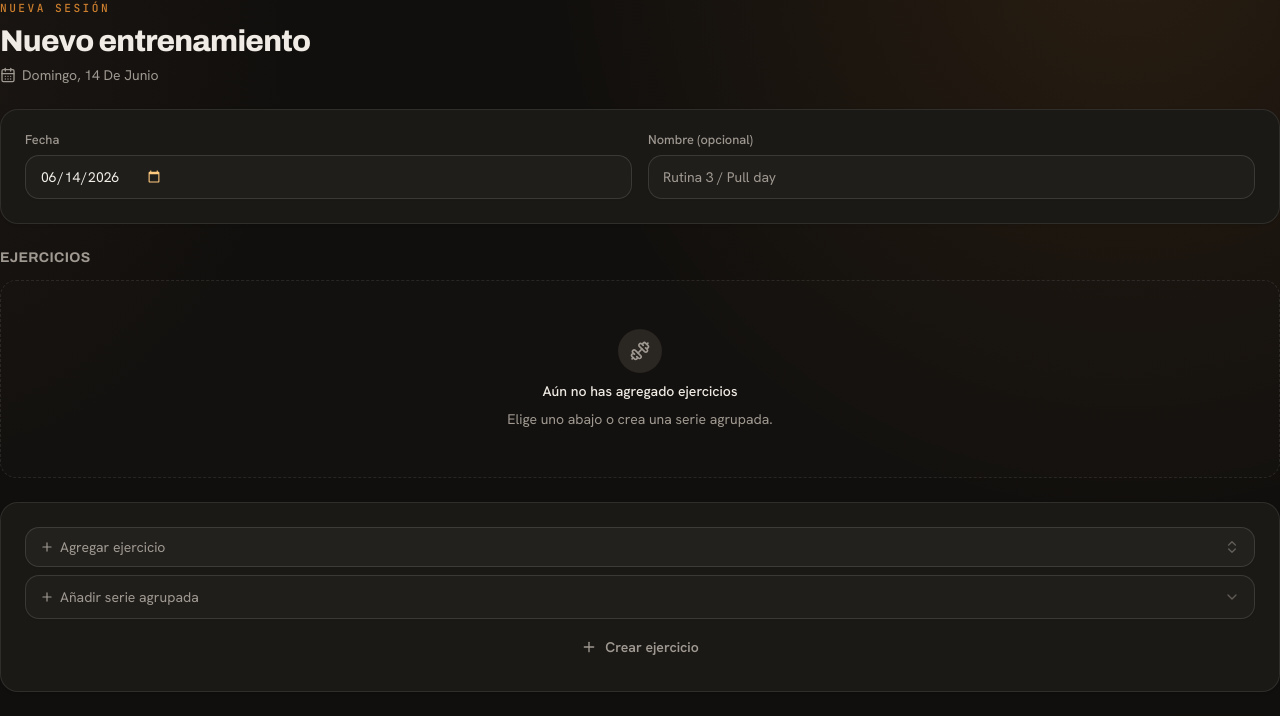
Test: WorkoutForm — inline create exercise › appends the newly created exercise to the workout
Click the button "Crear ejercicio" at (640, 647), box [25,627,1255,667]
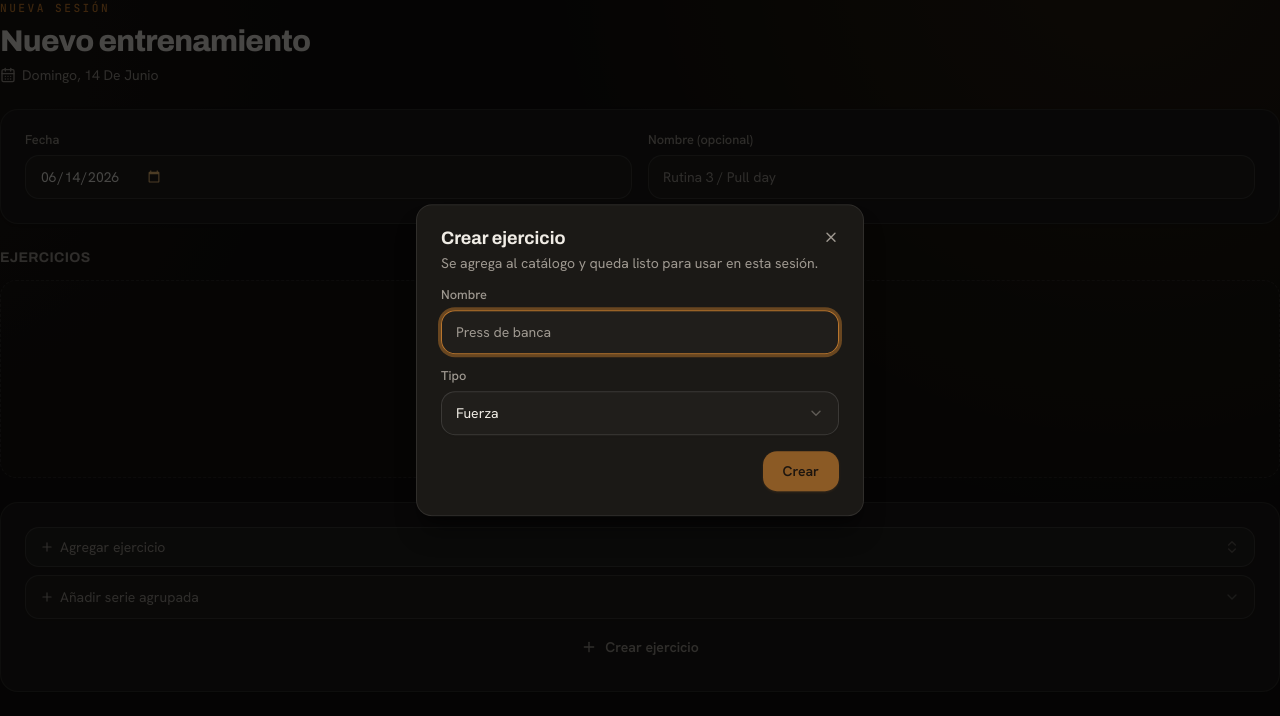
Type "Sentadilla" into the field labelled "Nombre" at (640, 332), box [441,310,839,354]
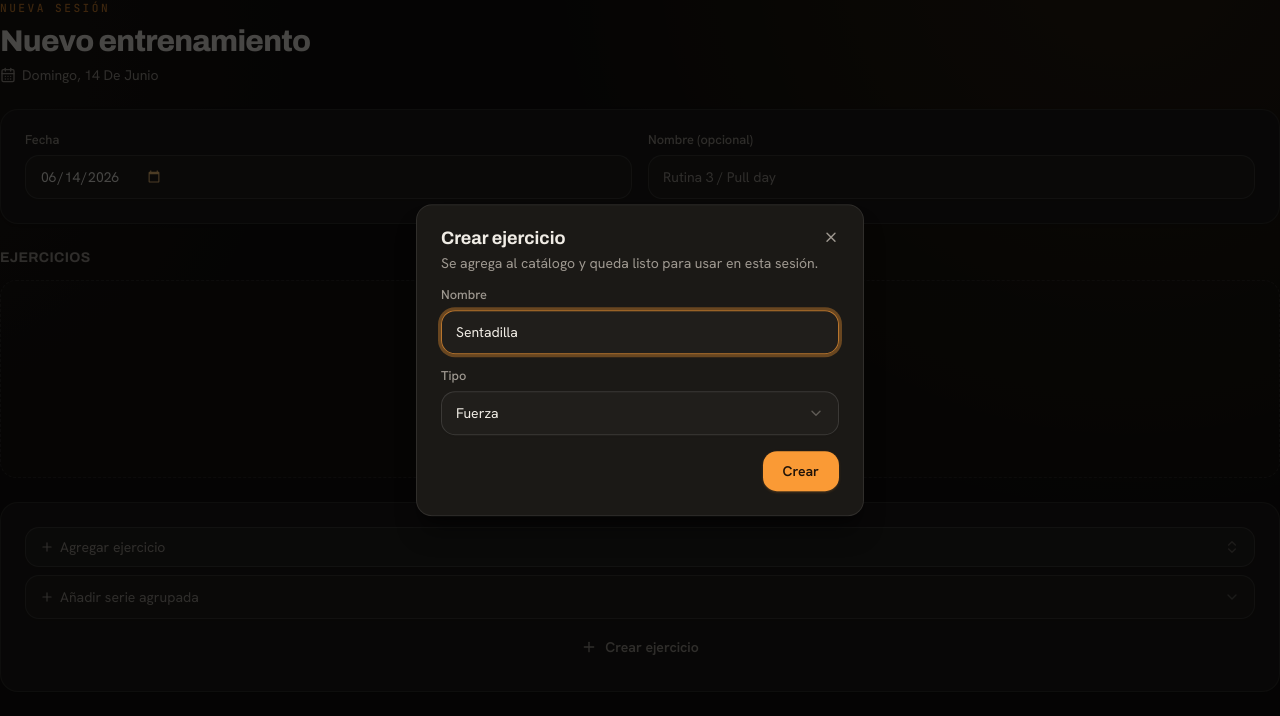
Click the button "Crear" at (801, 471), box [762,451,839,491]
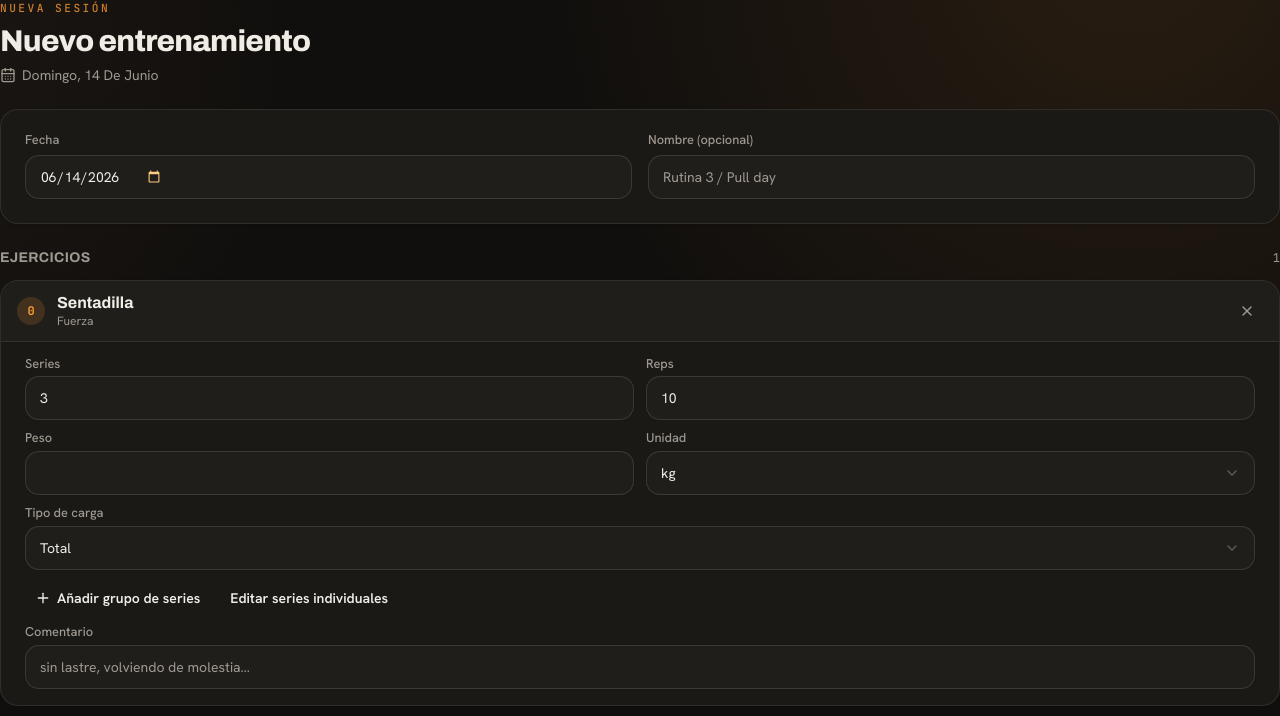
expect the text "Sentadilla" is shown: met, box [57,294,133,311]
